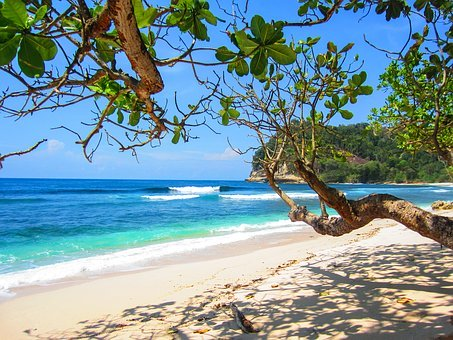beach: (3, 179, 451, 339)
tree: (53, 1, 453, 235)
